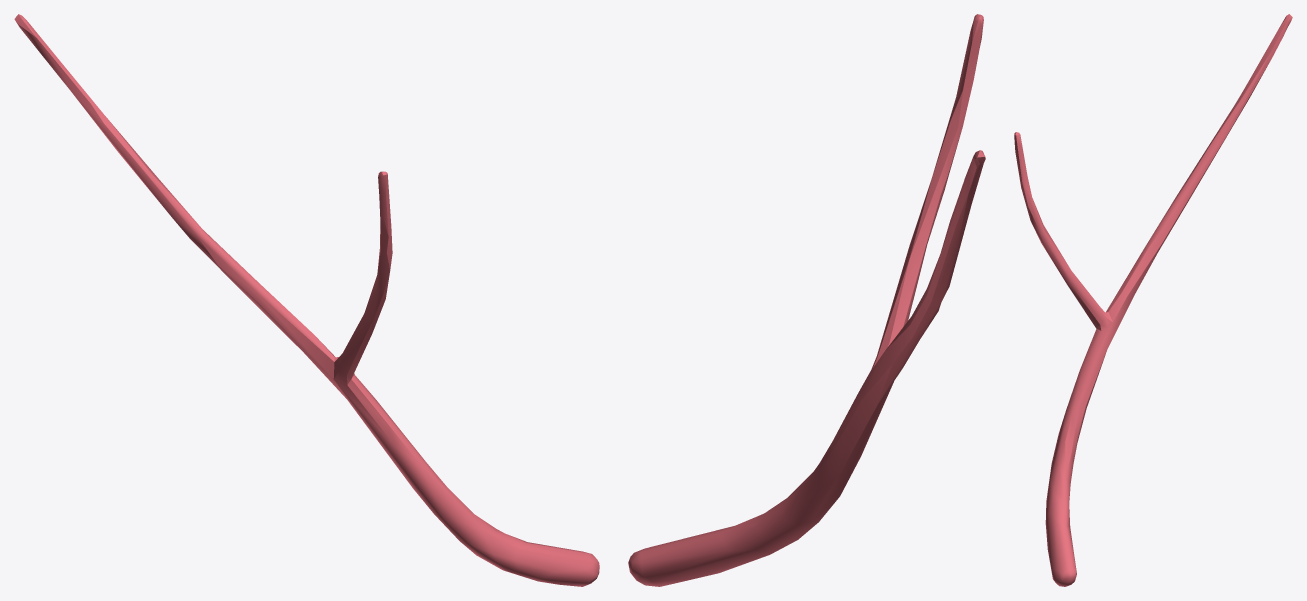
File: fma50814_fj5187.glb
3 renders of one model, left to right at view 1: azimuth 30°, elevation 25°; view 2: azimuth 150°, elevation 25°; view 3: azimuth 270°, elevation 25°, orthographic. The views are drawn at different scales.
Parts seen in each view (by area): view 1: FMA50814_FJ5187; view 2: FMA50814_FJ5187; view 3: FMA50814_FJ5187.
Part boxes in pixels (x1=…): FMA50814_FJ5187: x1=14, y1=14, x2=599, y2=586; FMA50814_FJ5187: x1=628, y1=14, x2=985, y2=586; FMA50814_FJ5187: x1=1014, y1=14, x2=1292, y2=586.
Bounding box in the file's own units: 0.0147 × 0.0181 × 0.0109.
